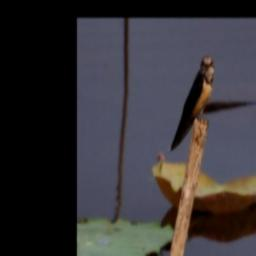Swallow: (169, 54, 215, 155)
